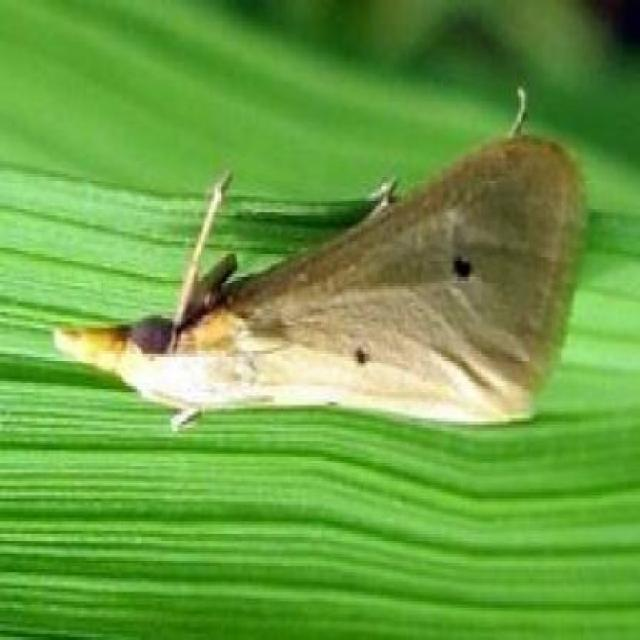stem-borer: (51, 80, 594, 442)
